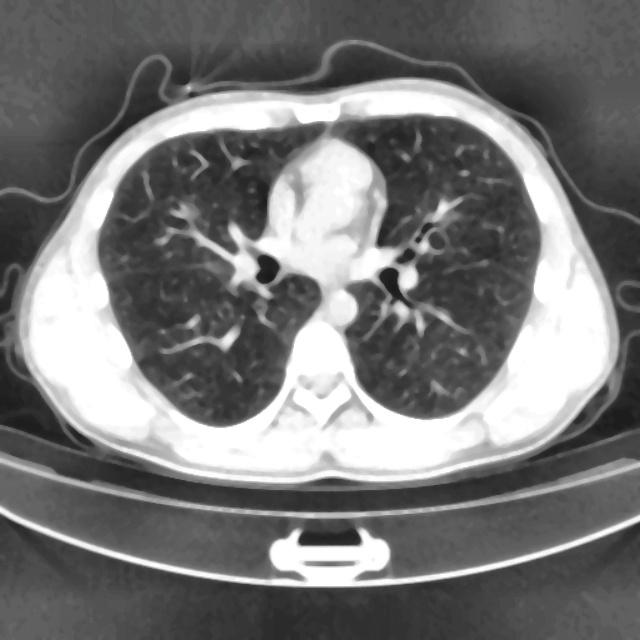covid: (12, 49, 622, 491)
